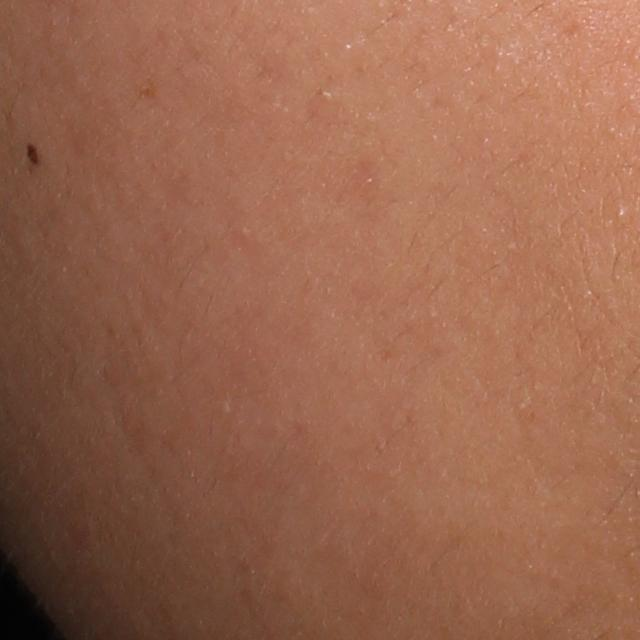comedo: (615, 206, 628, 223)
nevus: (26, 143, 41, 165)
